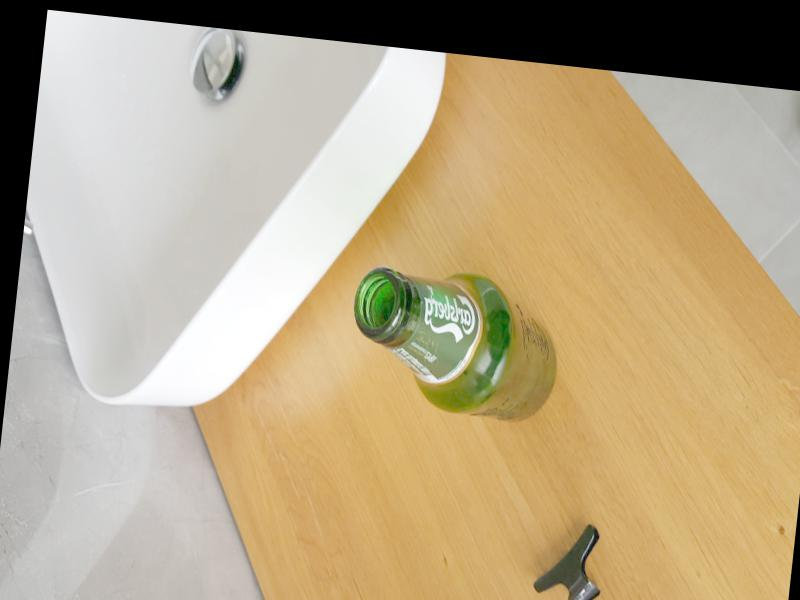Beer: (345, 263, 567, 423)
